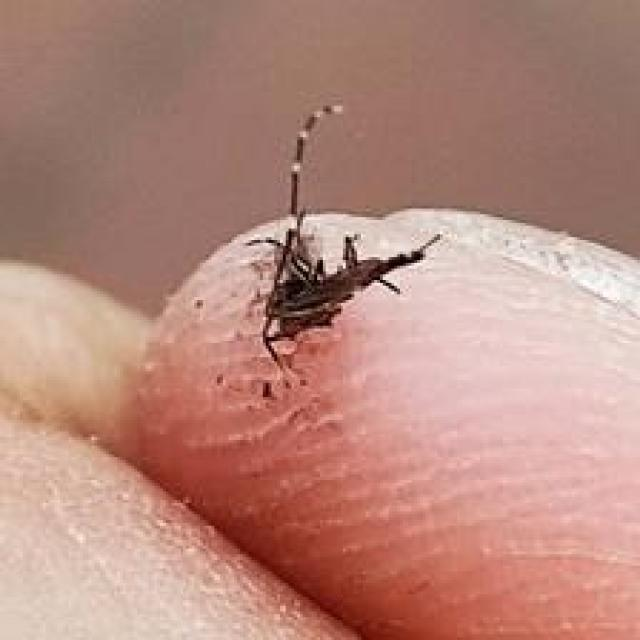Aedes albopictus: (243, 102, 443, 384)
